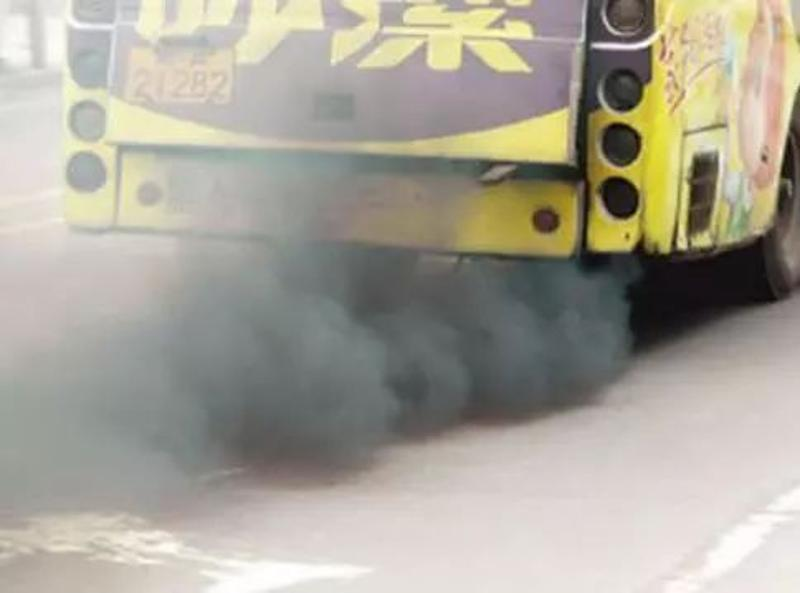smoke: (1, 257, 637, 495)
